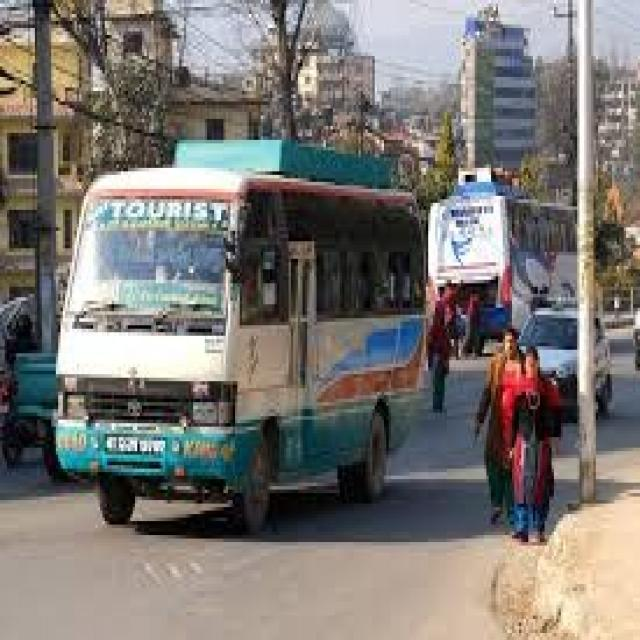bus: (25, 117, 426, 533), (428, 161, 592, 316)
